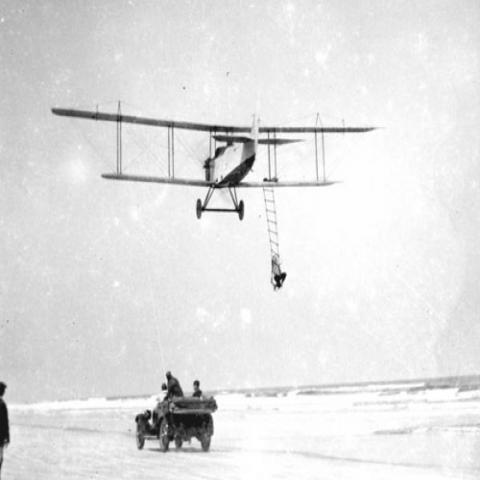truck: (132, 394, 220, 450)
